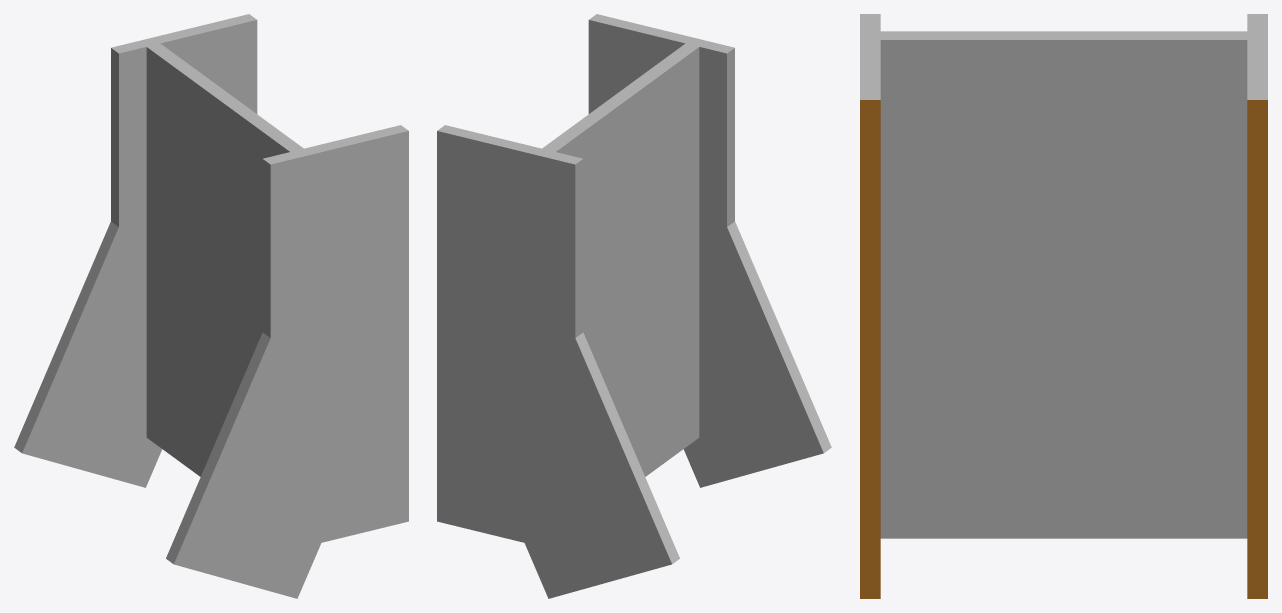
Rendered from wallColliders.glb.
The picture shows the model from 3 angles, left to right: view 1: azimuth 30°, elevation 25°; view 2: azimuth 150°, elevation 25°; view 3: azimuth 270°, elevation 25°; orthographic projection. The views are drawn at different scales.
Parts seen in each view (by area): view 1: mainWallCol, wallRSideCol, wallRSideColAgl, wallLSideCol, wallLSideColAgl; view 2: wallLSideCol, mainWallCol, wallLSideColAgl, wallRSideColAgl, wallRSideCol; view 3: mainWallCol, wallLSideCol, wallRSideCol.
Part boxes in pixels (left/top/right/bottom): mainWallCol: left=139, top=37, right=311, bottom=506; wallRSideCol: left=262, top=125, right=408, bottom=554; wallRSideColAgl: left=166, top=310, right=406, bottom=598; wallLSideCol: left=111, top=14, right=257, bottom=443; wallLSideColAgl: left=14, top=221, right=162, bottom=487; wallLSideCol: left=437, top=125, right=583, bottom=554; mainWallCol: left=534, top=37, right=706, bottom=476; wallLSideColAgl: left=440, top=310, right=679, bottom=598; wallRSideColAgl: left=683, top=198, right=831, bottom=487; wallRSideCol: left=588, top=14, right=734, bottom=443; mainWallCol: left=860, top=31, right=1267, bottom=538; wallLSideCol: left=1247, top=14, right=1267, bottom=598; wallRSideCol: left=860, top=14, right=880, bottom=598.
Size of the model in its own units: 17 by 30.47 by 20.
